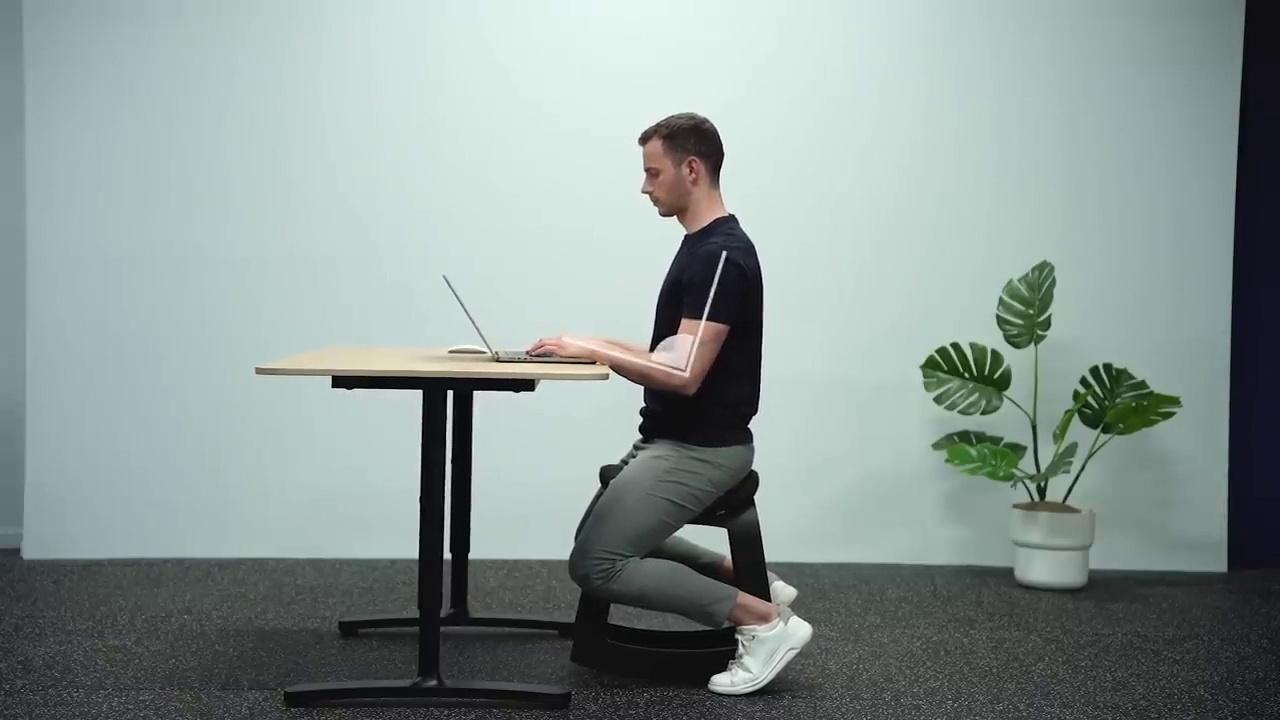GoodPosture: (527, 112, 812, 694)
